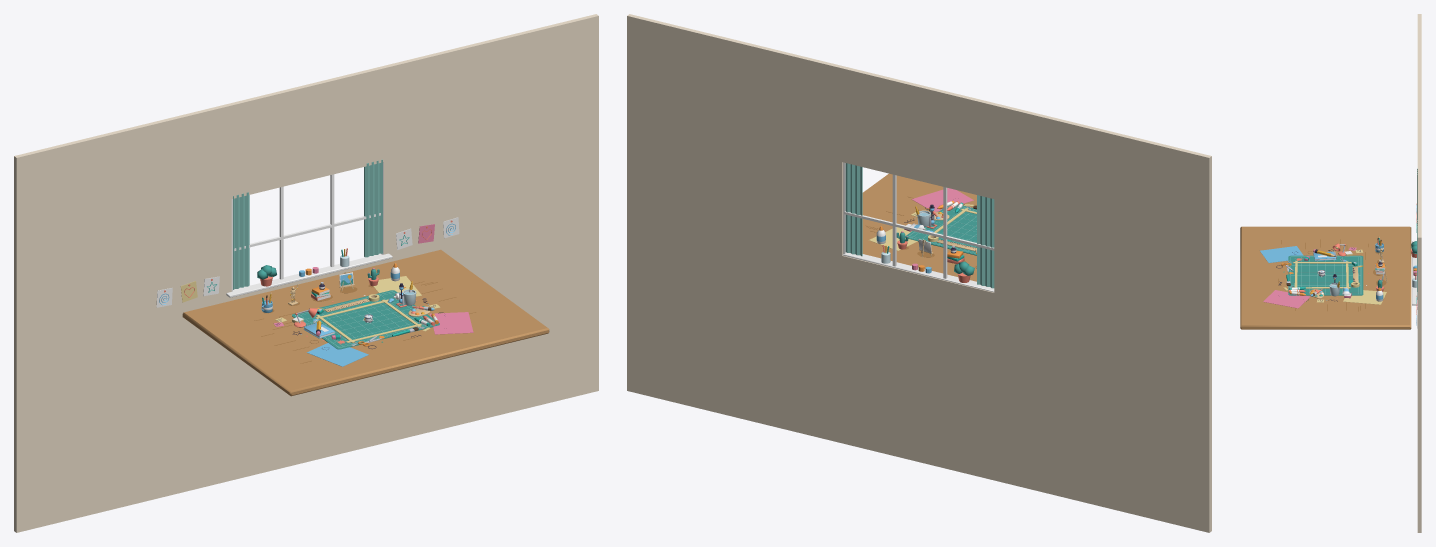
The model's file is paint.glb.
3 renders of one model, left to right at view 1: azimuth 30°, elevation 25°; view 2: azimuth 150°, elevation 25°; view 3: azimuth 270°, elevation 25°, orthographic. The views are drawn at different scales.
Visible parts, largest first — view 1: far_ground_flat_upright, ground_flat, thin_flat, props, far_props_flat; view 2: far_ground_flat_upright, ground_flat, thin_flat, far_props_flat; view 3: ground_flat, thin_flat, far_ground_flat_upright, props, far_props_flat, props_upright.
Part boxes in pixels (x1,y1,x2,y2): far_ground_flat_upright: (14, 14, 598, 532); ground_flat: (182, 249, 549, 396); thin_flat: (273, 276, 473, 366); props: (292, 292, 438, 346); far_props_flat: (261, 263, 399, 312); far_ground_flat_upright: (627, 14, 1211, 532); ground_flat: (862, 173, 976, 281); thin_flat: (869, 188, 976, 255); far_props_flat: (876, 226, 976, 268); ground_flat: (1240, 226, 1411, 329); thin_flat: (1260, 246, 1386, 308); far_ground_flat_upright: (1411, 14, 1421, 532); props: (1281, 251, 1358, 298); far_props_flat: (1375, 236, 1387, 301); props_upright: (1329, 244, 1359, 296).
Size of the model in its own units: 130 by 80 by 44.5.
